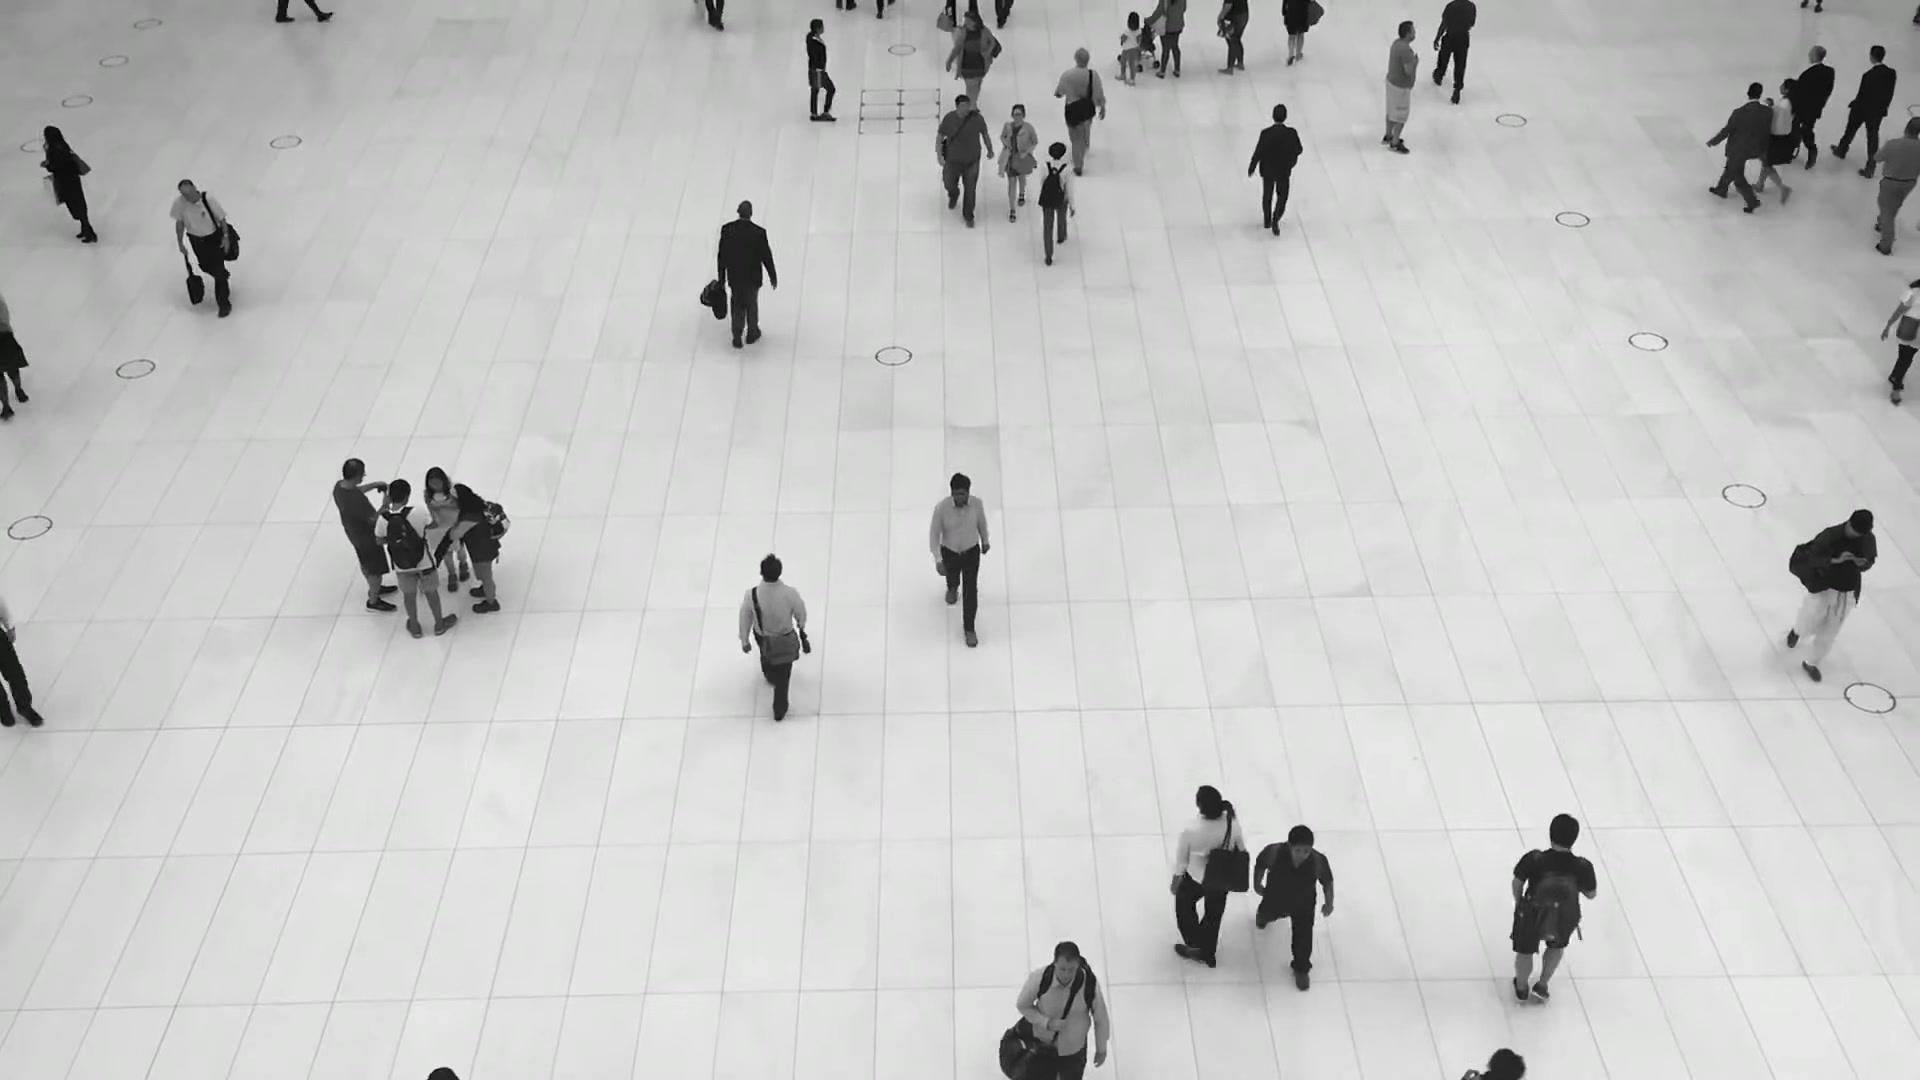person: (1507, 815, 1598, 1018), (1786, 507, 1878, 680), (1249, 821, 1334, 991), (1015, 935, 1111, 1080), (1171, 784, 1245, 969), (376, 477, 460, 635), (735, 555, 810, 731), (926, 468, 994, 640), (334, 457, 400, 611), (168, 176, 235, 316), (716, 200, 777, 352), (1711, 80, 1775, 211), (932, 91, 994, 224), (1835, 43, 1898, 177), (1248, 103, 1305, 236), (41, 124, 99, 244), (449, 482, 501, 614), (1054, 49, 1107, 179), (1871, 115, 1920, 254), (1753, 76, 1801, 201), (423, 466, 470, 592), (1381, 19, 1420, 154), (1034, 141, 1076, 266), (1797, 45, 1837, 168), (801, 18, 847, 123), (946, 11, 995, 106), (1432, 0, 1477, 105), (998, 103, 1038, 219), (1114, 10, 1142, 86)
